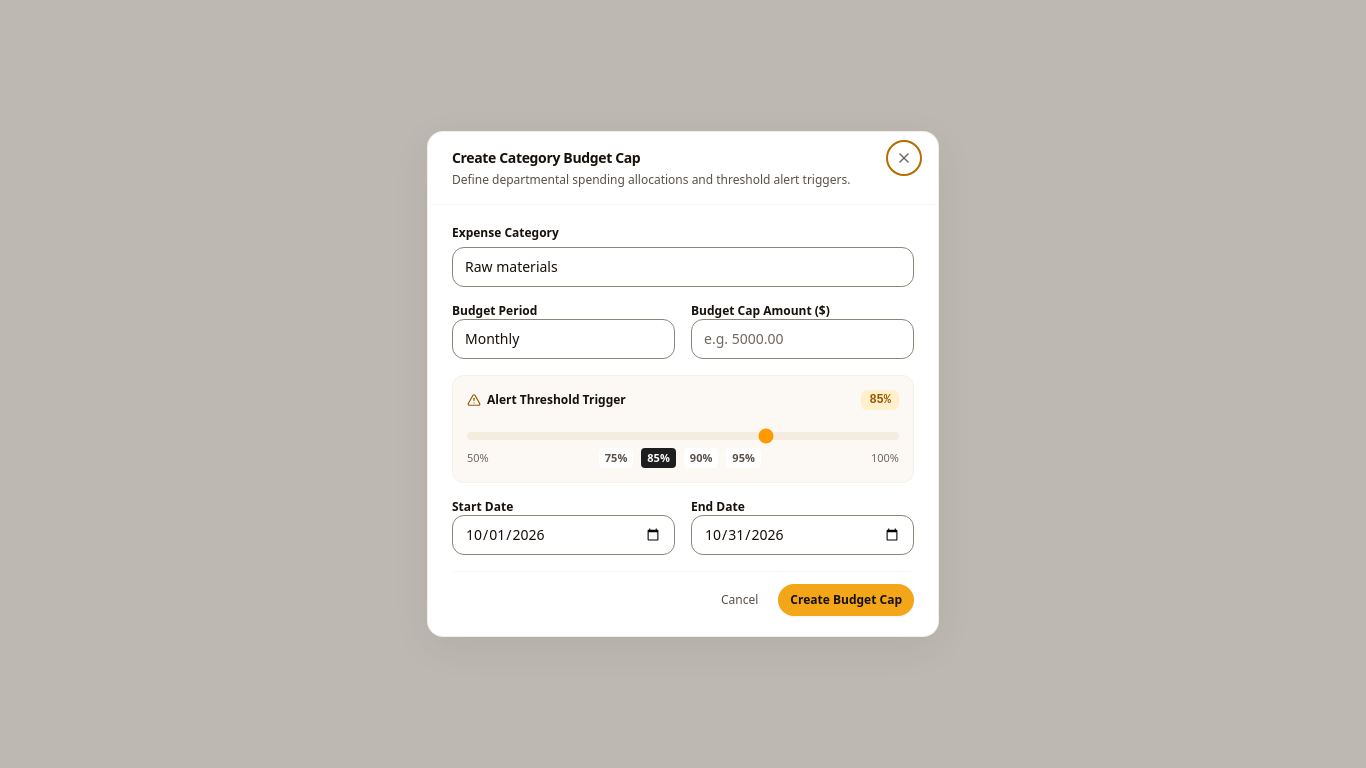
Test: CreateBudgetModal Component › validates start date vs end date ordering
Type "5000" into the number field with test id "input-budget-amount" at (802, 339), box [691,319,914,359]
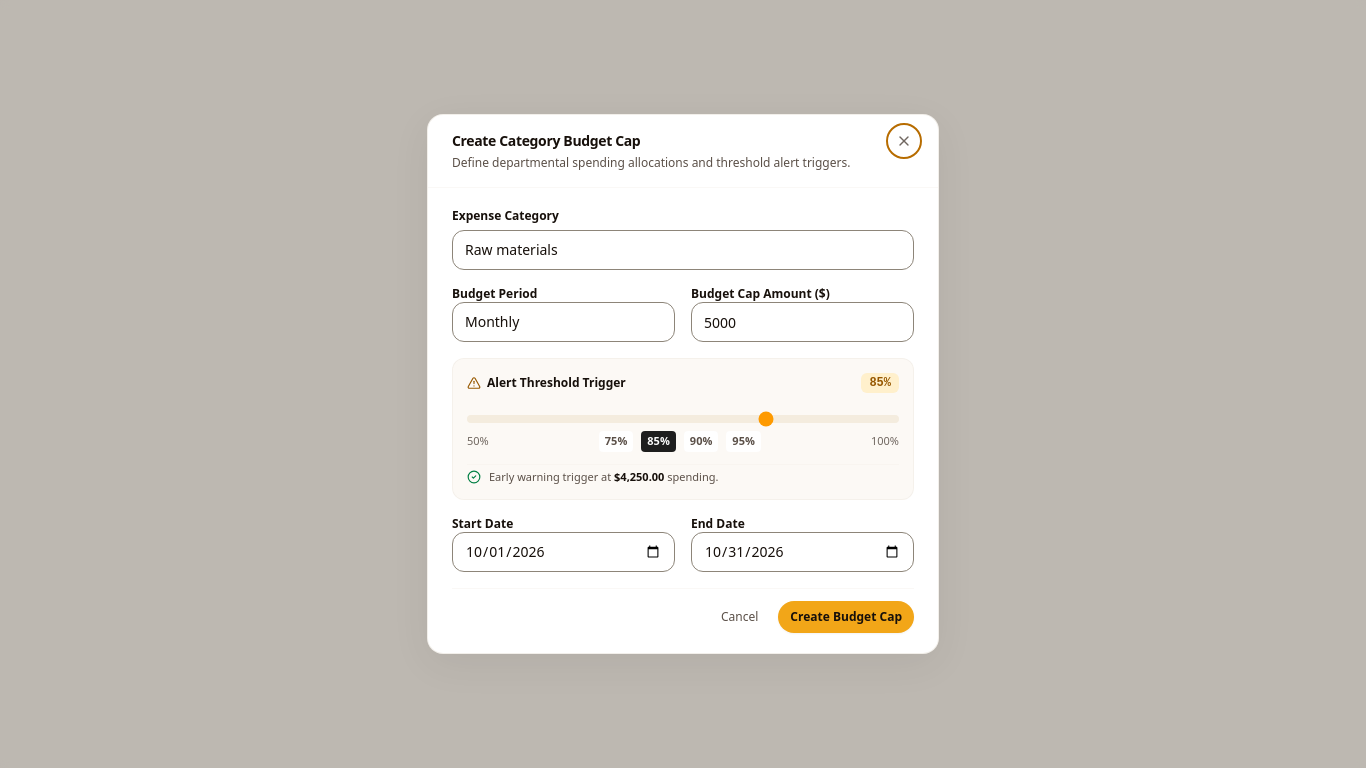
Type "2026-08-31" into the date field with test id "input-budget-start-date" at (564, 552), box [452,532,675,572]
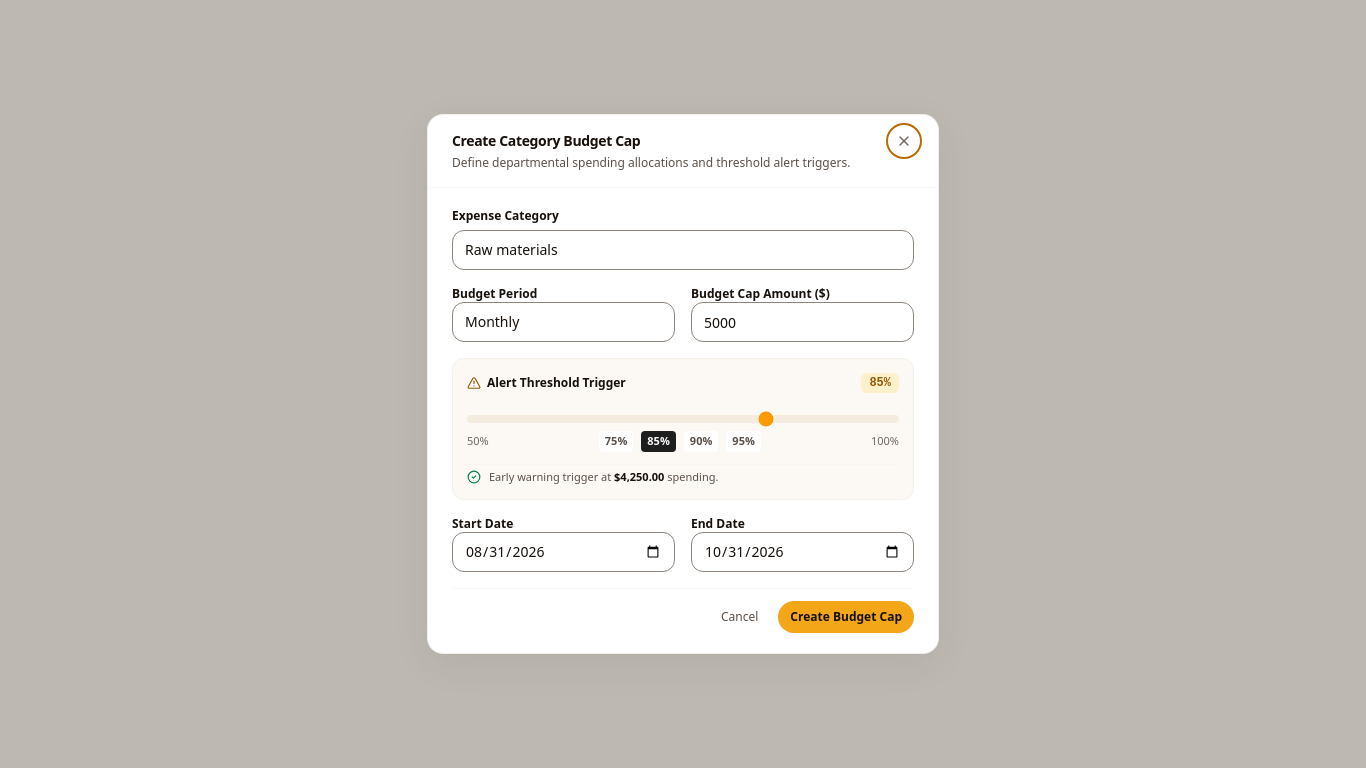
Type "2026-08-01" into the date field with test id "input-budget-end-date" at (802, 552), box [691,532,914,572]
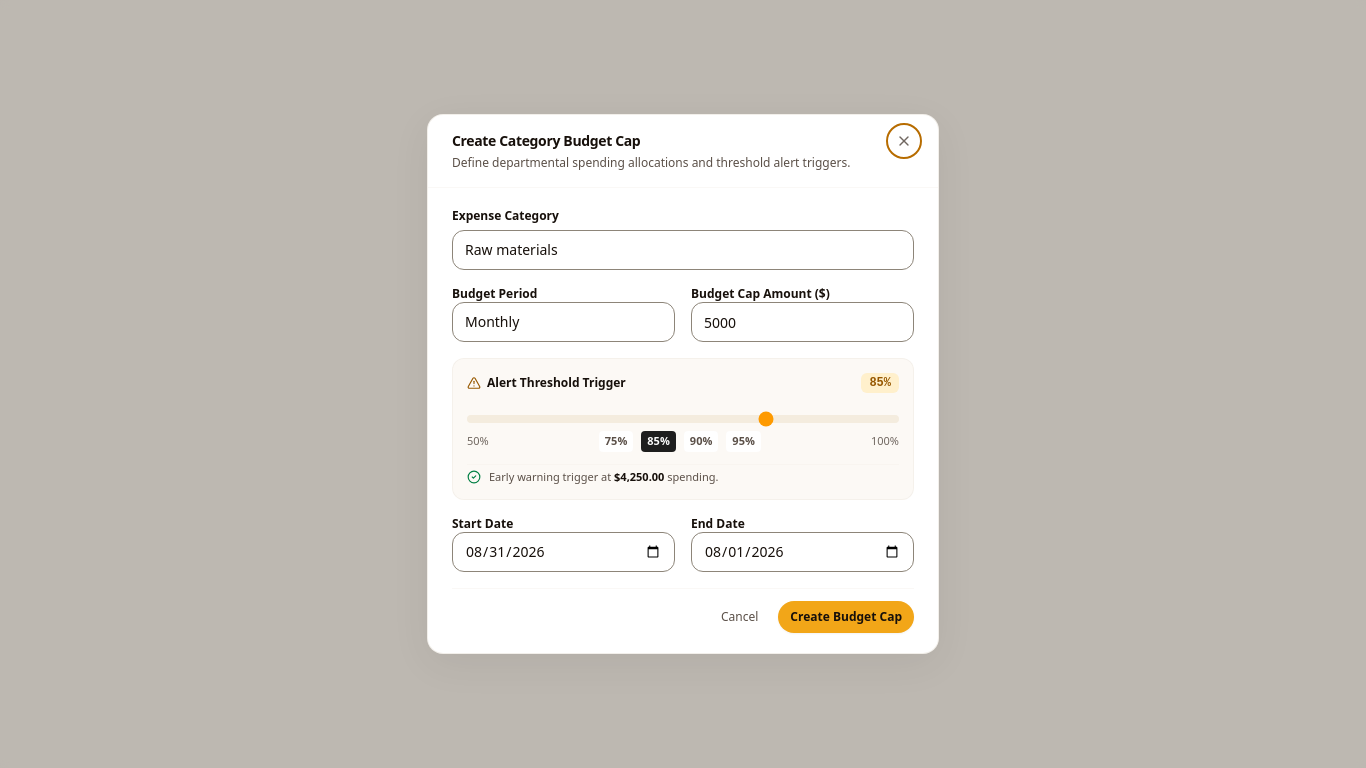
Click the button with test id "btn-submit-budget" at (846, 617), box [778,601,914,633]
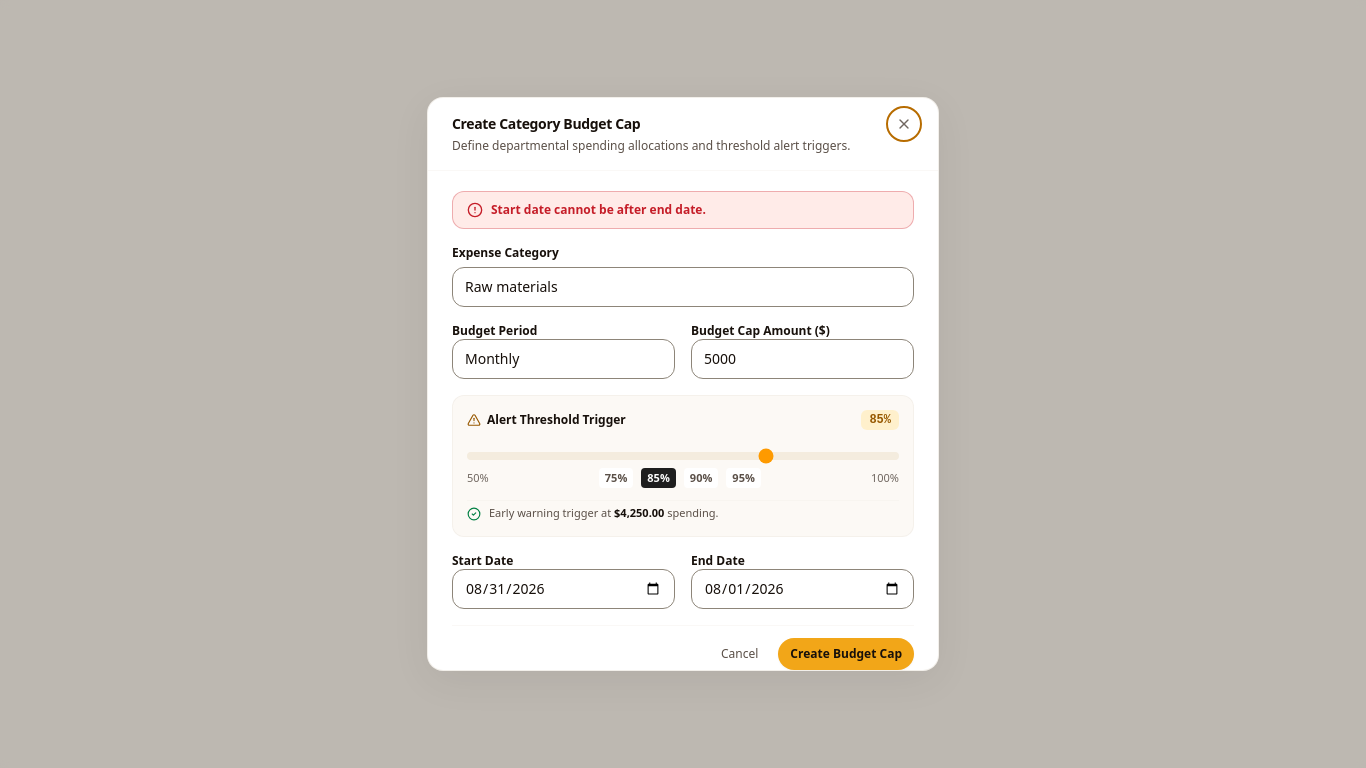
Expected: the element with test id "budget-form-error" shows "Start date cannot be after end date", [491,201,706,218]
